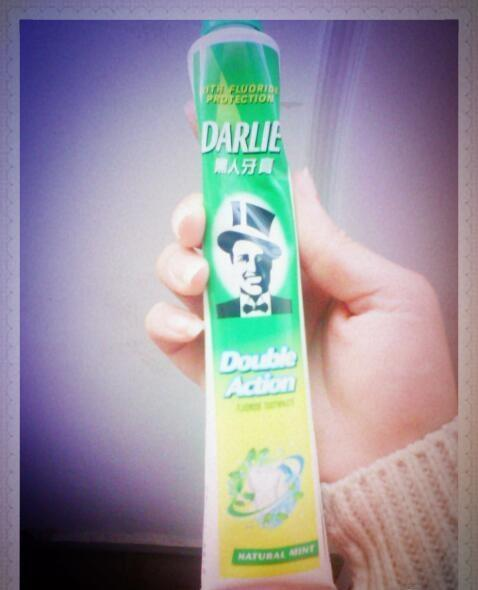darlie: (195, 64, 315, 572)
